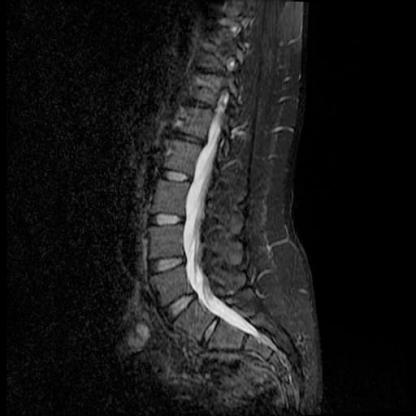Annular Disc Relaxationrotation: (170, 287, 192, 326), (201, 314, 219, 346)
Degenerative Disc Diseaserotation: (169, 286, 192, 325), (158, 168, 194, 187), (201, 315, 220, 348)
Disc Bulgerotation: (158, 168, 194, 187)
